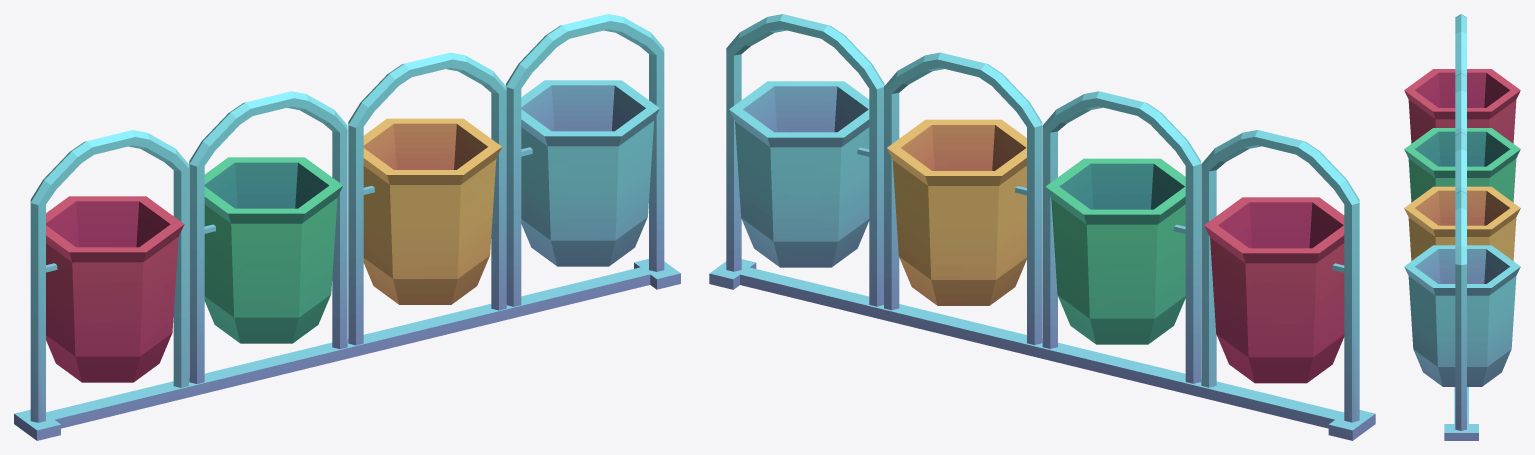
Rendered from flower_pod_3.gltf.
3 renders of one model, left to right at view 1: azimuth 30°, elevation 25°; view 2: azimuth 150°, elevation 25°; view 3: azimuth 270°, elevation 25°, orthographic. The views are drawn at different scales.
Parts seen in each view (by area): view 1: Object_39; view 2: Object_39; view 3: Object_39.
Boxes of the visible parts, box(x1,y1,x2,y2) form: Object_39: box(14, 14, 680, 440); Object_39: box(709, 14, 1375, 440); Object_39: box(1404, 14, 1520, 440).
Size of the model in its own units: 6.68 by 2.74 by 1.38.
1 material, 1 textured.
